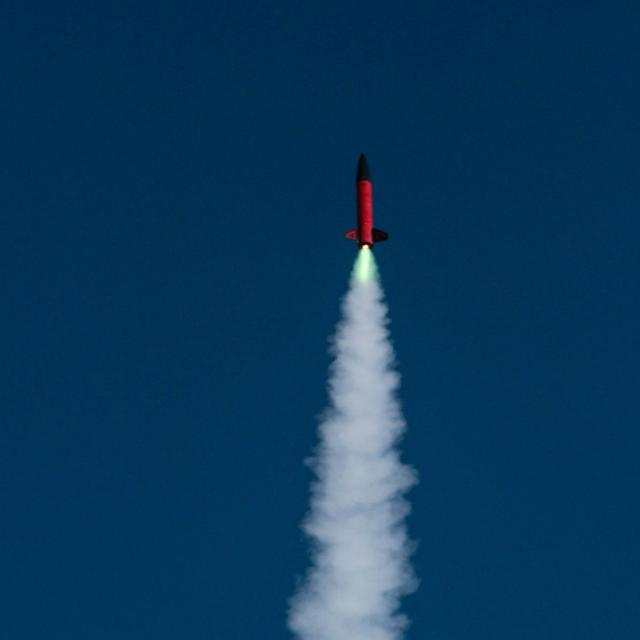Rocket: (343, 151, 390, 251)
